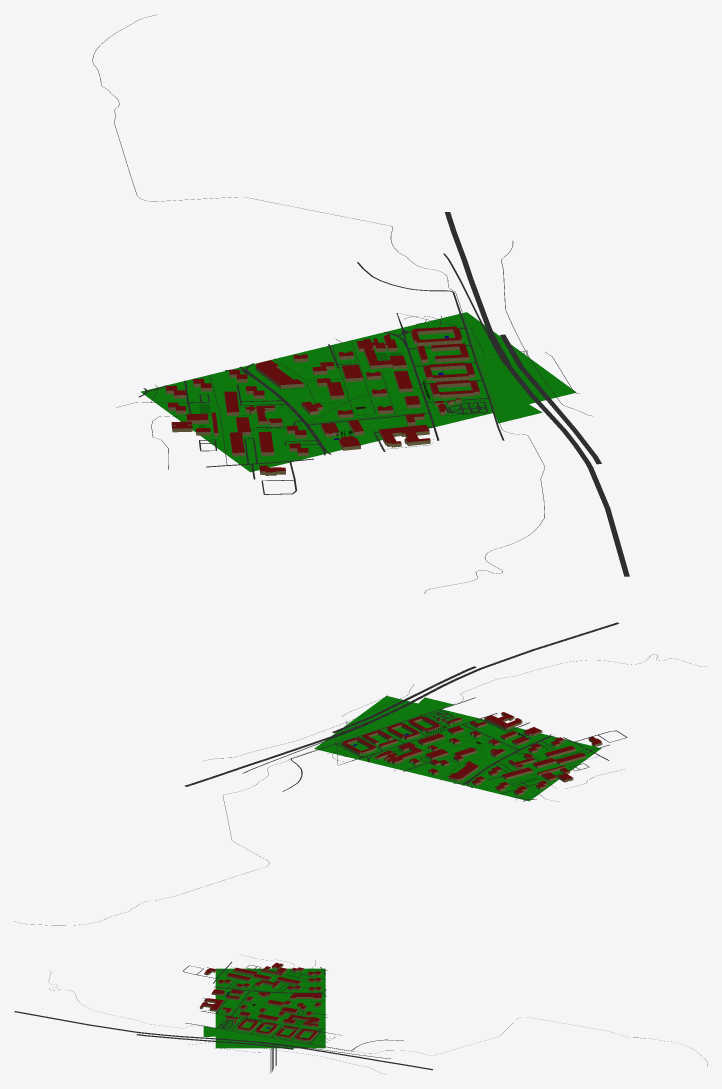
The model's file is hola.obj.
3 views of the same model, one above another, from view 1: azimuth 30°, elevation 25°; view 2: azimuth 150°, elevation 25°; view 3: azimuth 270°, elevation 25° (orthographic). The views are drawn at different scales.
Parts seen in each view (by area): view 1: SurfaceArea611, SurfaceArea609, SurfaceArea613, Road M-40, SurfaceArea610, SurfaceArea612, SurfaceArea614, Building568, Road Anillo Verde Ciclista; view 2: SurfaceArea611, SurfaceArea609, Road M-40, SurfaceArea613, SurfaceArea610, SurfaceArea612, SurfaceArea614, Building568, Road Anillo Verde Ciclista; view 3: SurfaceArea611, SurfaceArea609, Road M-40, SurfaceArea613, SurfaceArea610, SurfaceArea612, SurfaceArea614, Building568, Road Anillo Verde Ciclista, Road Calle de Brujas, Building557.
Boxes of the visible parts, bbox=[...] form: SurfaceArea611: bbox=[308, 350, 542, 436]; SurfaceArea609: bbox=[172, 381, 382, 472]; SurfaceArea613: bbox=[447, 335, 576, 405]; Road M-40: bbox=[445, 212, 629, 576]; SurfaceArea610: bbox=[140, 358, 307, 414]; SurfaceArea612: bbox=[276, 325, 431, 381]; SurfaceArea614: bbox=[413, 312, 497, 343]; Building568: bbox=[356, 334, 406, 369]; Road Anillo Verde Ciclista: bbox=[92, 14, 544, 593]; SurfaceArea611: bbox=[375, 697, 506, 764]; SurfaceArea609: bbox=[461, 727, 601, 785]; Road M-40: bbox=[184, 622, 618, 786]; SurfaceArea613: bbox=[335, 696, 420, 742]; SurfaceArea610: bbox=[440, 764, 549, 801]; SurfaceArea612: bbox=[350, 742, 459, 779]; SurfaceArea614: bbox=[314, 734, 370, 757]; Building568: bbox=[374, 742, 422, 764]; Road Anillo Verde Ciclista: bbox=[14, 654, 705, 925]; SurfaceArea611: bbox=[203, 1002, 294, 1036]; SurfaceArea609: bbox=[215, 968, 294, 1001]; Road M-40: bbox=[14, 1011, 432, 1070]; SurfaceArea613: bbox=[215, 1035, 294, 1048]; SurfaceArea610: bbox=[294, 968, 325, 1001]; SurfaceArea612: bbox=[294, 1002, 325, 1034]; SurfaceArea614: bbox=[294, 1035, 325, 1048]; Building568: bbox=[283, 1014, 319, 1027]; Road Anillo Verde Ciclista: bbox=[48, 971, 707, 1065]; Road Calle de Brujas: bbox=[185, 1023, 403, 1050]; Building557: bbox=[200, 998, 223, 1011].
Size of the model in its own units: 1088 by 110 by 2649.
